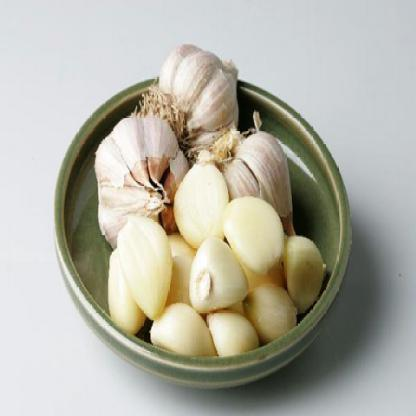garlic: (89, 102, 192, 242), (207, 115, 302, 220), (160, 31, 240, 143), (116, 209, 173, 318), (168, 140, 226, 244), (146, 294, 214, 382), (184, 230, 262, 298), (234, 278, 311, 343), (220, 192, 282, 272), (284, 236, 336, 318), (207, 310, 268, 366)
